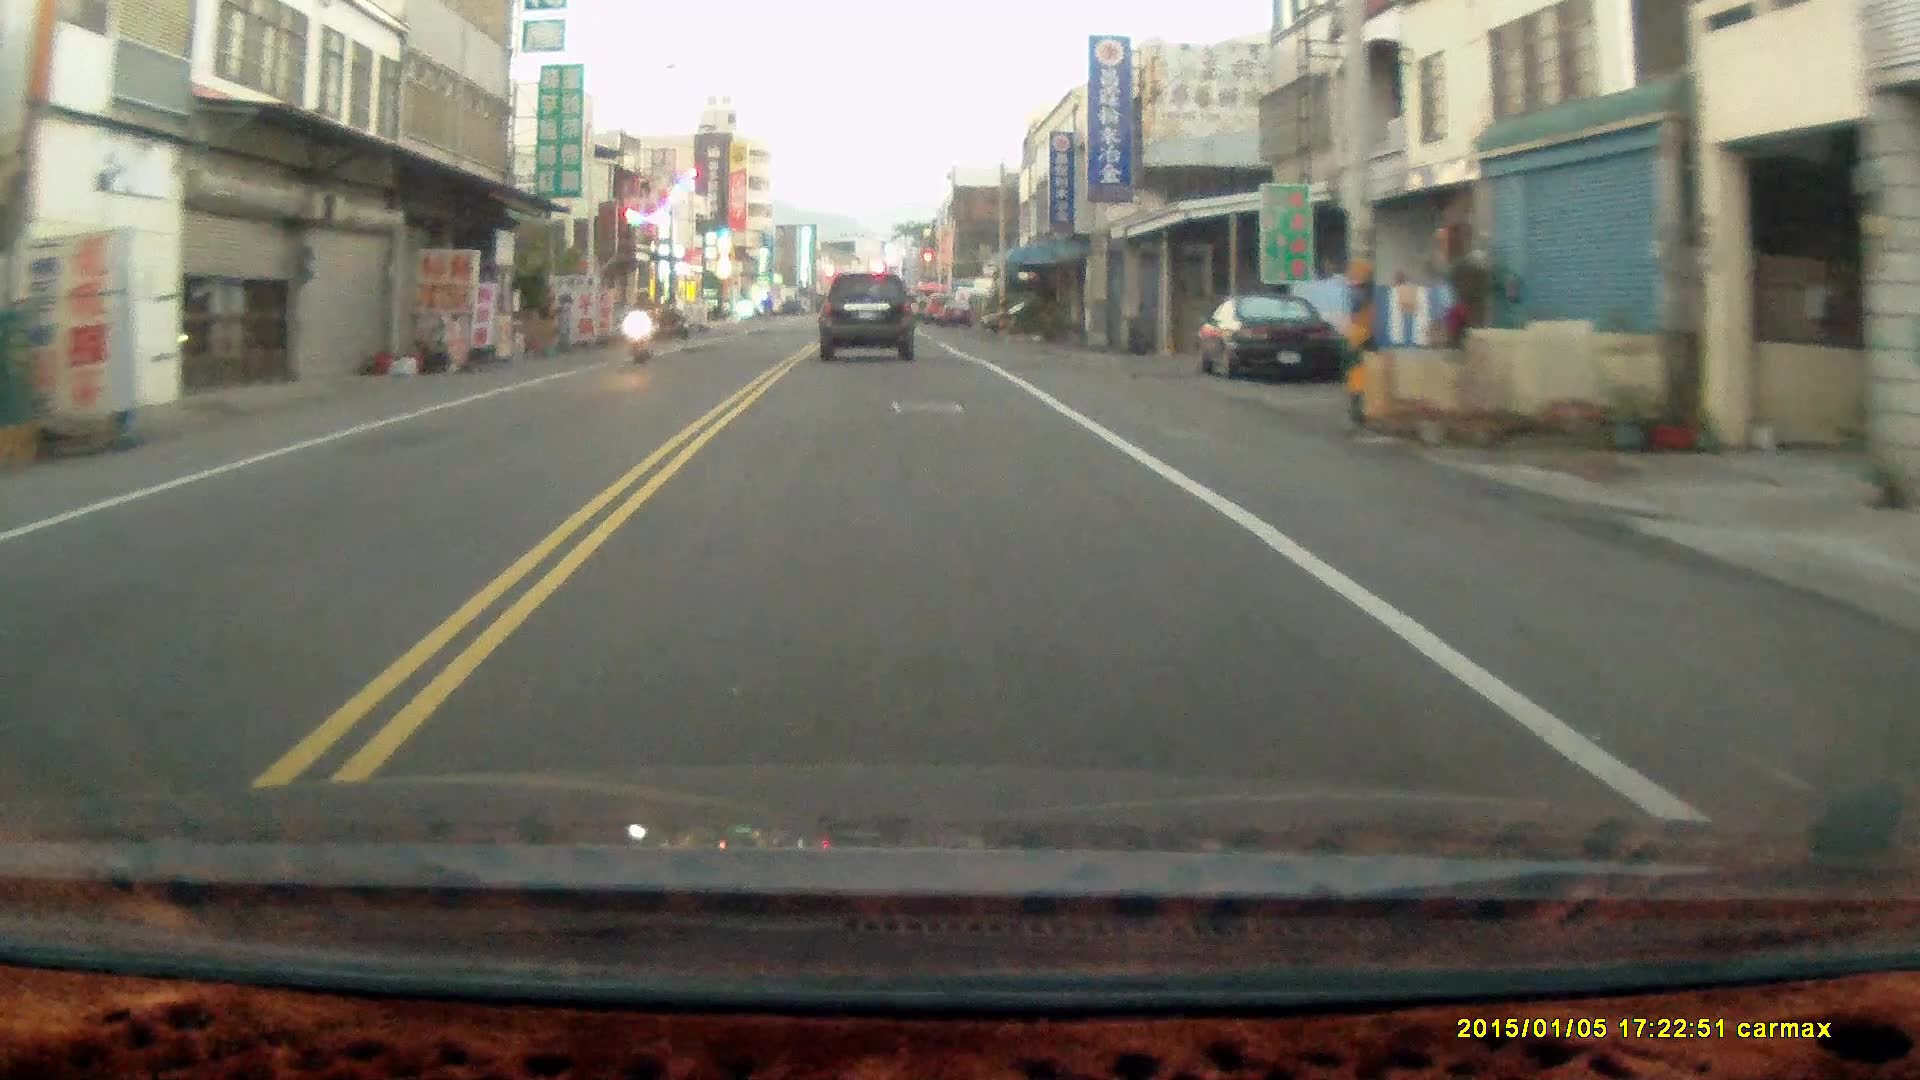rider: (626, 285, 657, 362)
vehicle: (1198, 295, 1339, 385), (820, 273, 918, 362)
